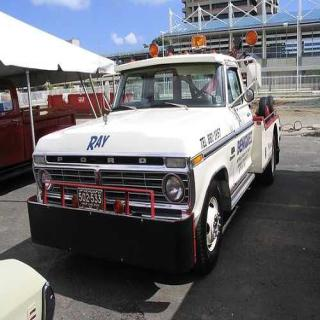Towing_truck: (26, 34, 282, 276)
